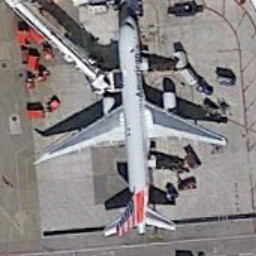Airplane: (27, 9, 236, 246)
